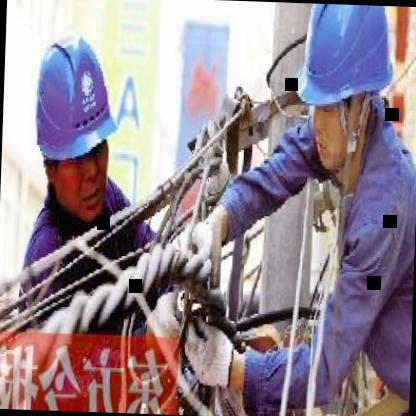helmet: (27, 24, 124, 242), (287, 3, 400, 184)
